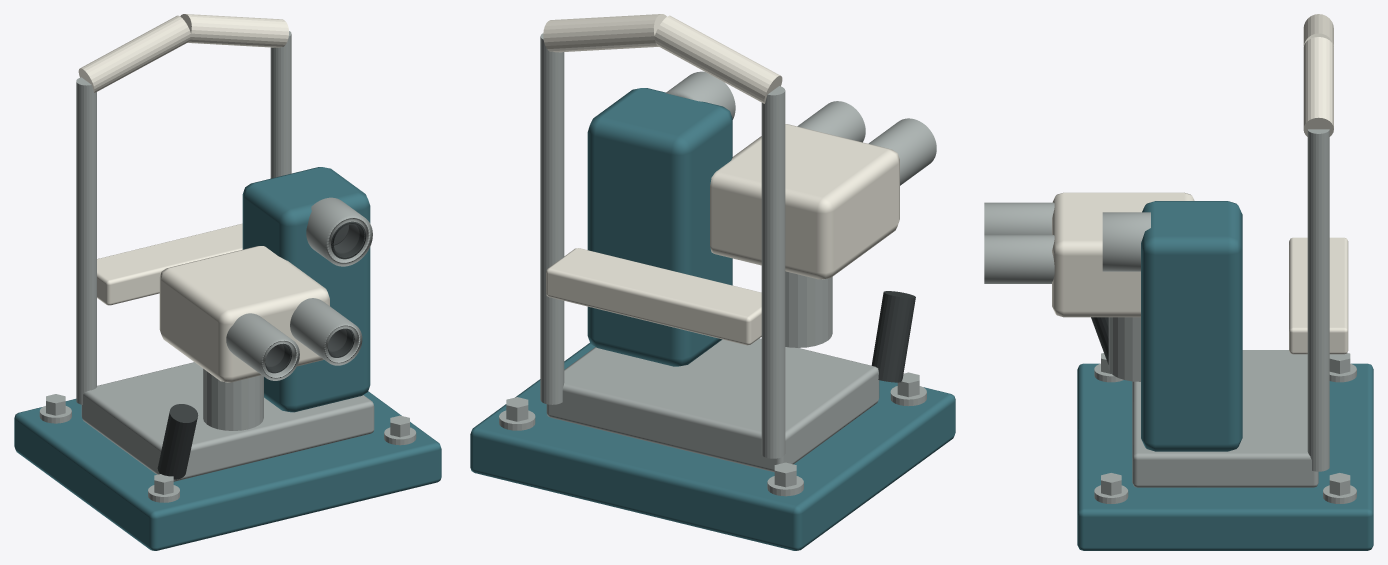
The model's file is optician-and-optical-lens-workshop-optician-and-optica-4a22b5fc__31672.glb.
3 views of the same model, side by side, from view 1: azimuth 30°, elevation 25°; view 2: azimuth 150°, elevation 25°; view 3: azimuth 270°, elevation 25° (orthographic). The views are drawn at different scales.
Visible parts, largest first — view 1: optician-and-optical-lens-workshop-slit-lamp; view 2: optician-and-optical-lens-workshop-slit-lamp; view 3: optician-and-optical-lens-workshop-slit-lamp.
Part boxes in pixels (left/top/right/bottom): optician-and-optical-lens-workshop-slit-lamp: left=14, top=14, right=441, bottom=550; optician-and-optical-lens-workshop-slit-lamp: left=470, top=14, right=955, bottom=550; optician-and-optical-lens-workshop-slit-lamp: left=984, top=14, right=1373, bottom=550.
Size of the model in its own units: 0.42 by 0.5773 by 0.46.
